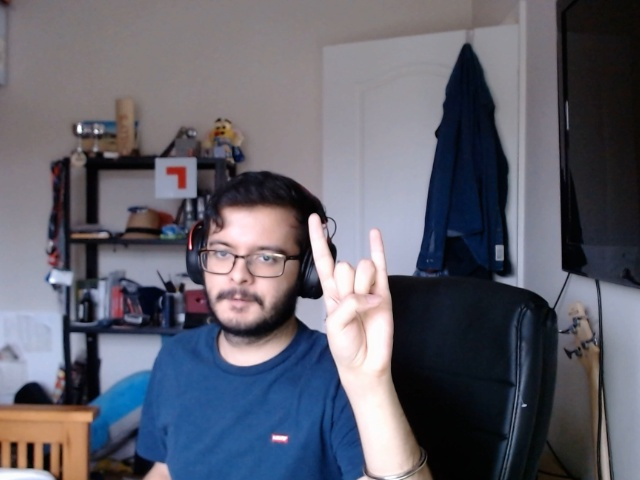Rock on: (290, 207, 423, 388)
